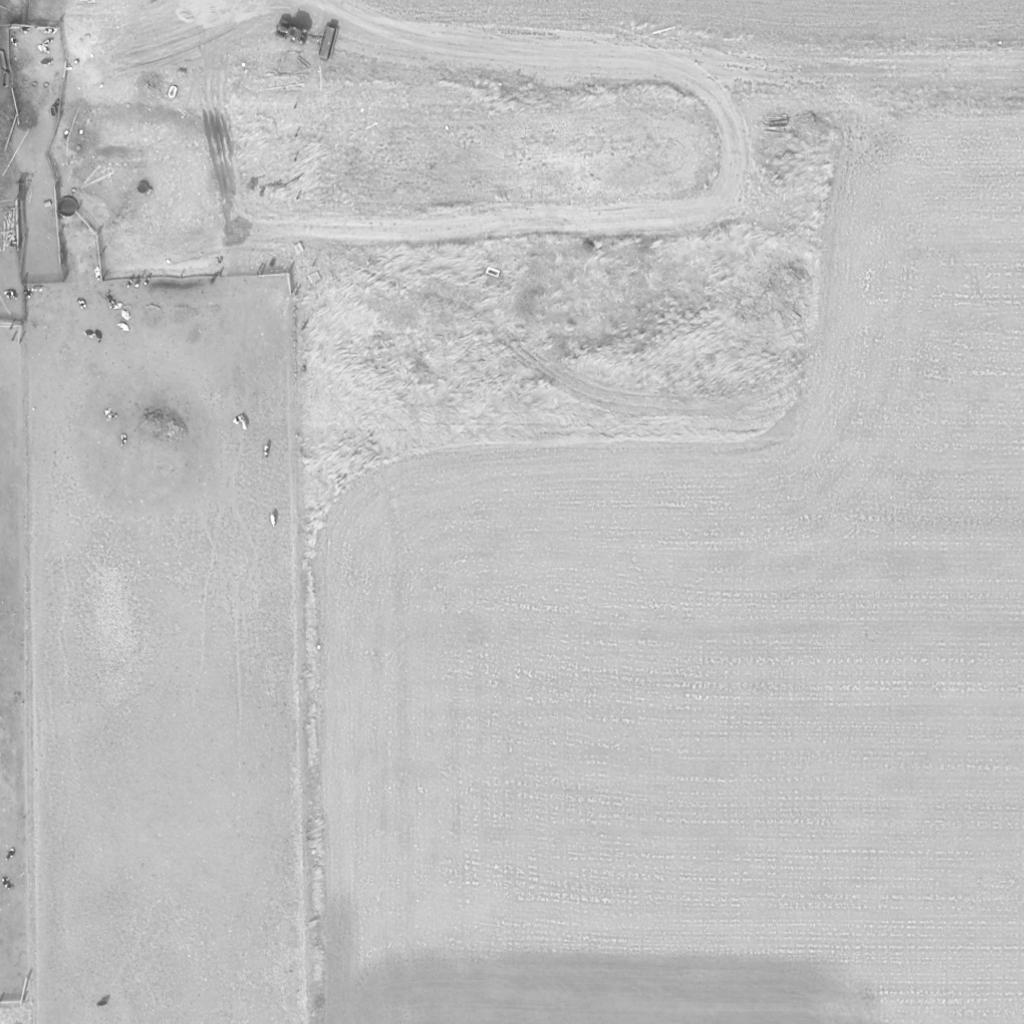vehicle: (271, 17, 311, 47)
